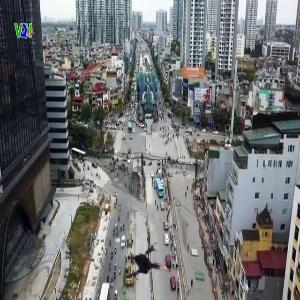drone: (121, 240, 179, 298)
